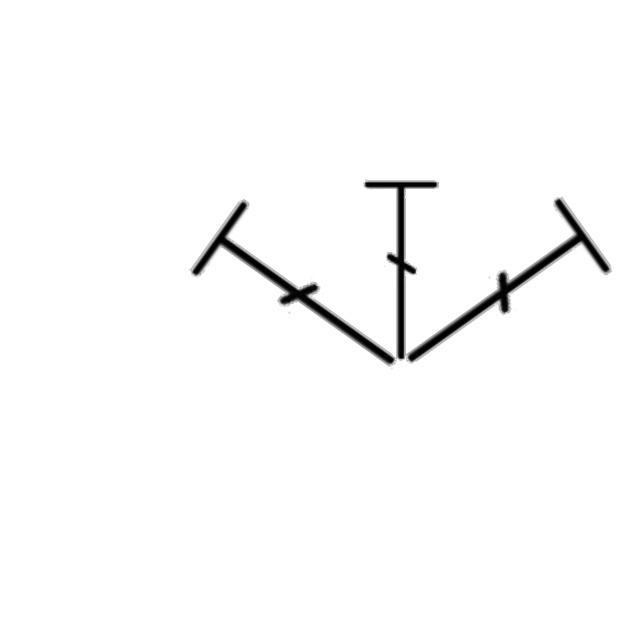chain: (180, 189, 431, 408), (373, 189, 624, 408), (361, 173, 443, 367)
